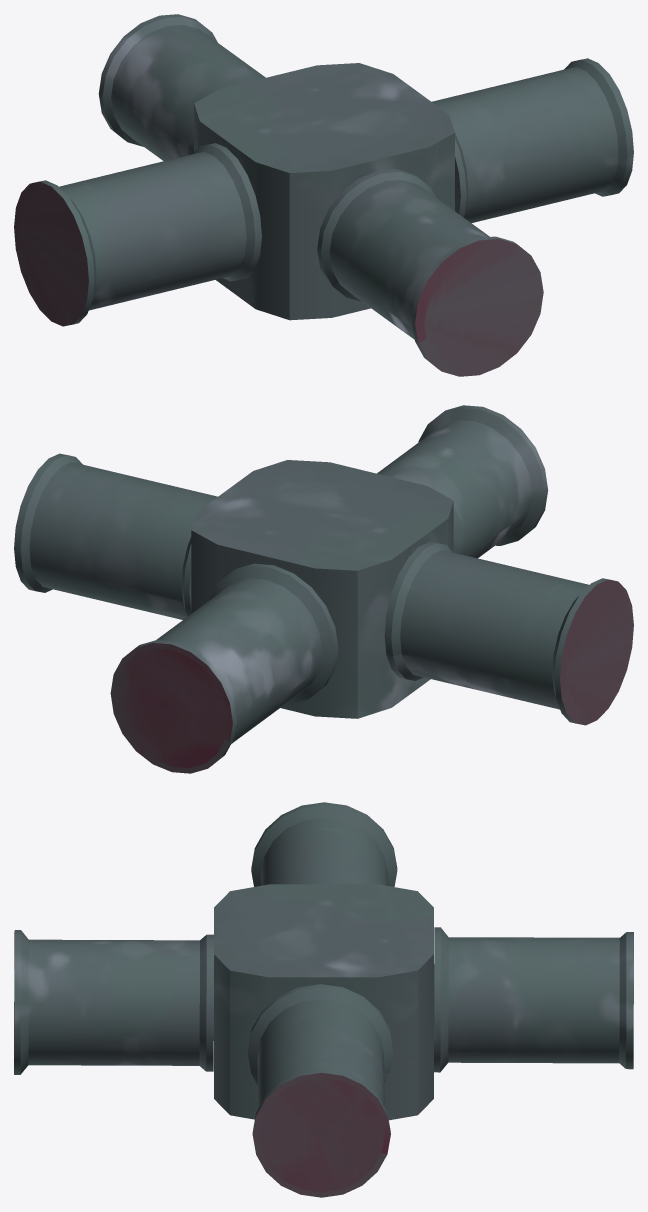
The model's file is Half_Pipe_Cross.fbx.
3 renders of one model, top to bottom at view 1: azimuth 30°, elevation 25°; view 2: azimuth 150°, elevation 25°; view 3: azimuth 270°, elevation 25°, orthographic. The views are drawn at different scales.
Visible parts, largest first — view 1: HALF_PIPE_CROSS_001; view 2: HALF_PIPE_CROSS_001; view 3: HALF_PIPE_CROSS_001.
Boxes of the visible parts, <box> form: HALF_PIPE_CROSS_001: <box>14,14,633,376</box>; HALF_PIPE_CROSS_001: <box>14,405,633,773</box>; HALF_PIPE_CROSS_001: <box>14,802,633,1197</box>.
Size of the model in its own units: 185 by 53.06 by 184.
